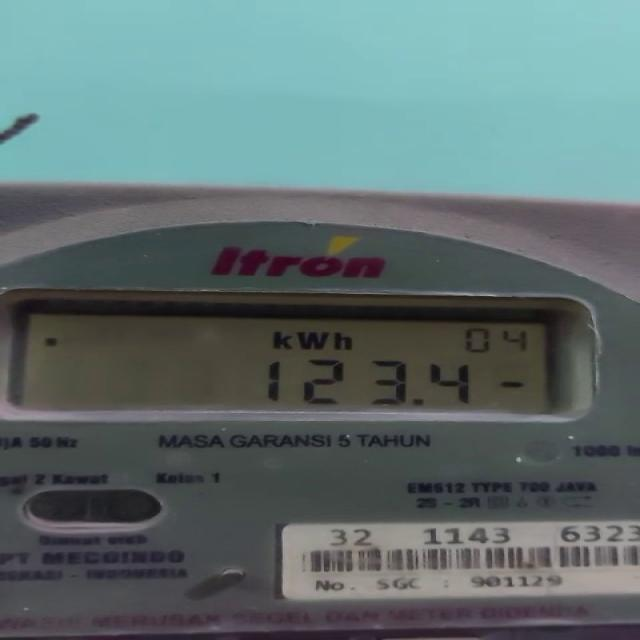LCD: (9, 288, 592, 424)
